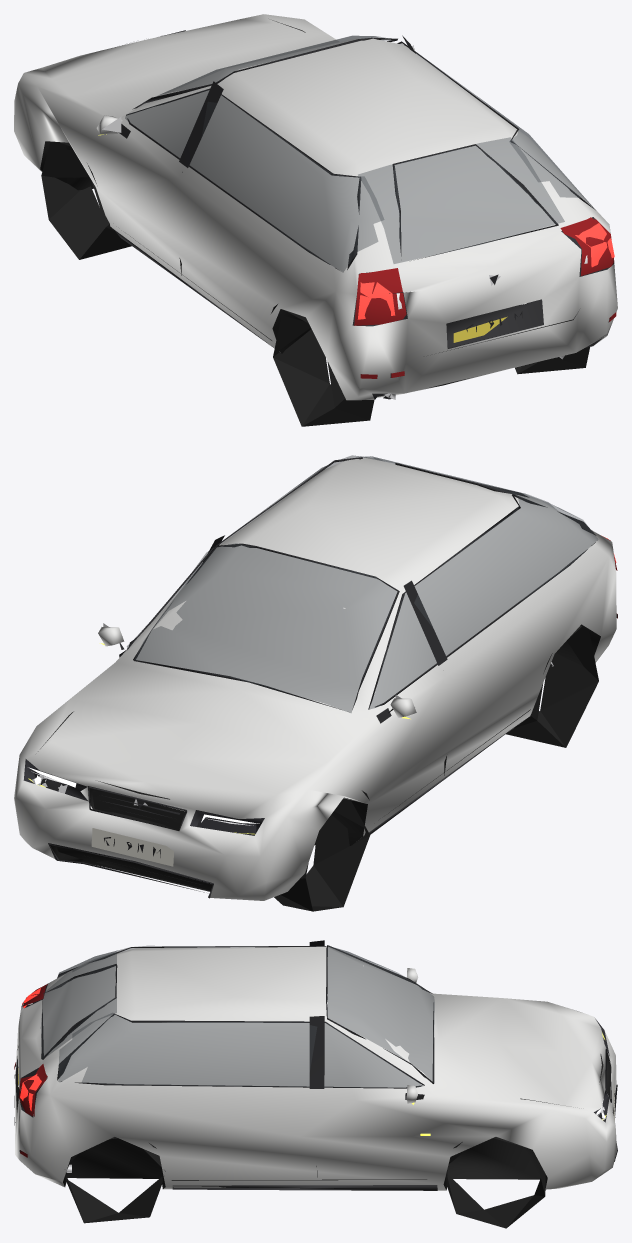
The model's file is civ_compact_lod1.glb.
The picture shows the model from 3 angles, top to bottom: view 1: azimuth 30°, elevation 25°; view 2: azimuth 150°, elevation 25°; view 3: azimuth 270°, elevation 25°; orthographic projection. The views are drawn at different scales.
Parts seen in each view (by area): view 1: civ_compact.001; view 2: civ_compact.001; view 3: civ_compact.001.
Part boxes in pixels (left/top/right/bottom): civ_compact.001: left=14, top=14, right=617, bottom=426; civ_compact.001: left=14, top=455, right=617, bottom=911; civ_compact.001: left=14, top=940, right=617, bottom=1228.
Bounding box in the file's own units: 2 × 1.52 × 4.05.
